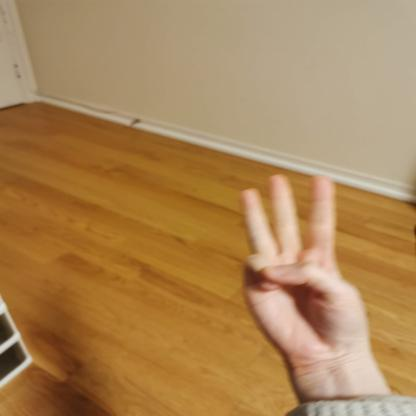six: (221, 162, 386, 382)
